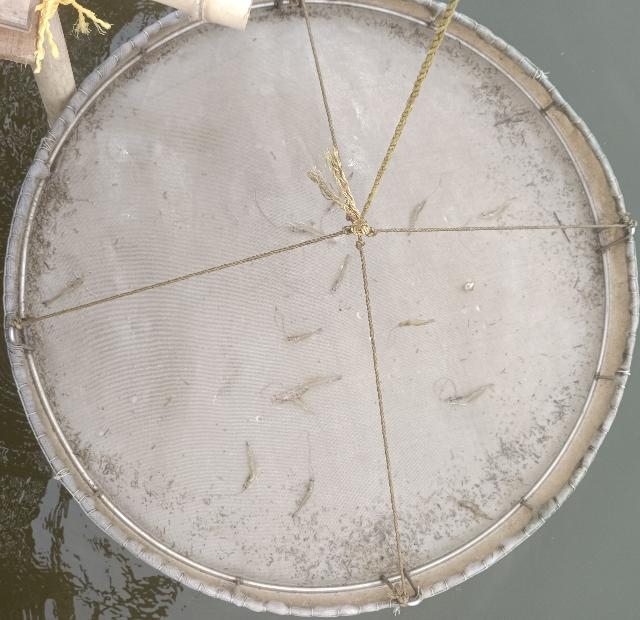shrimp: (271, 376, 342, 414), (41, 275, 84, 308), (444, 384, 494, 405), (291, 475, 314, 520), (478, 197, 517, 220), (406, 198, 427, 240), (242, 442, 258, 492), (494, 107, 534, 127), (330, 255, 351, 292), (457, 501, 492, 520), (288, 221, 325, 238), (287, 329, 322, 342), (397, 319, 435, 327), (71, 199, 99, 208)
